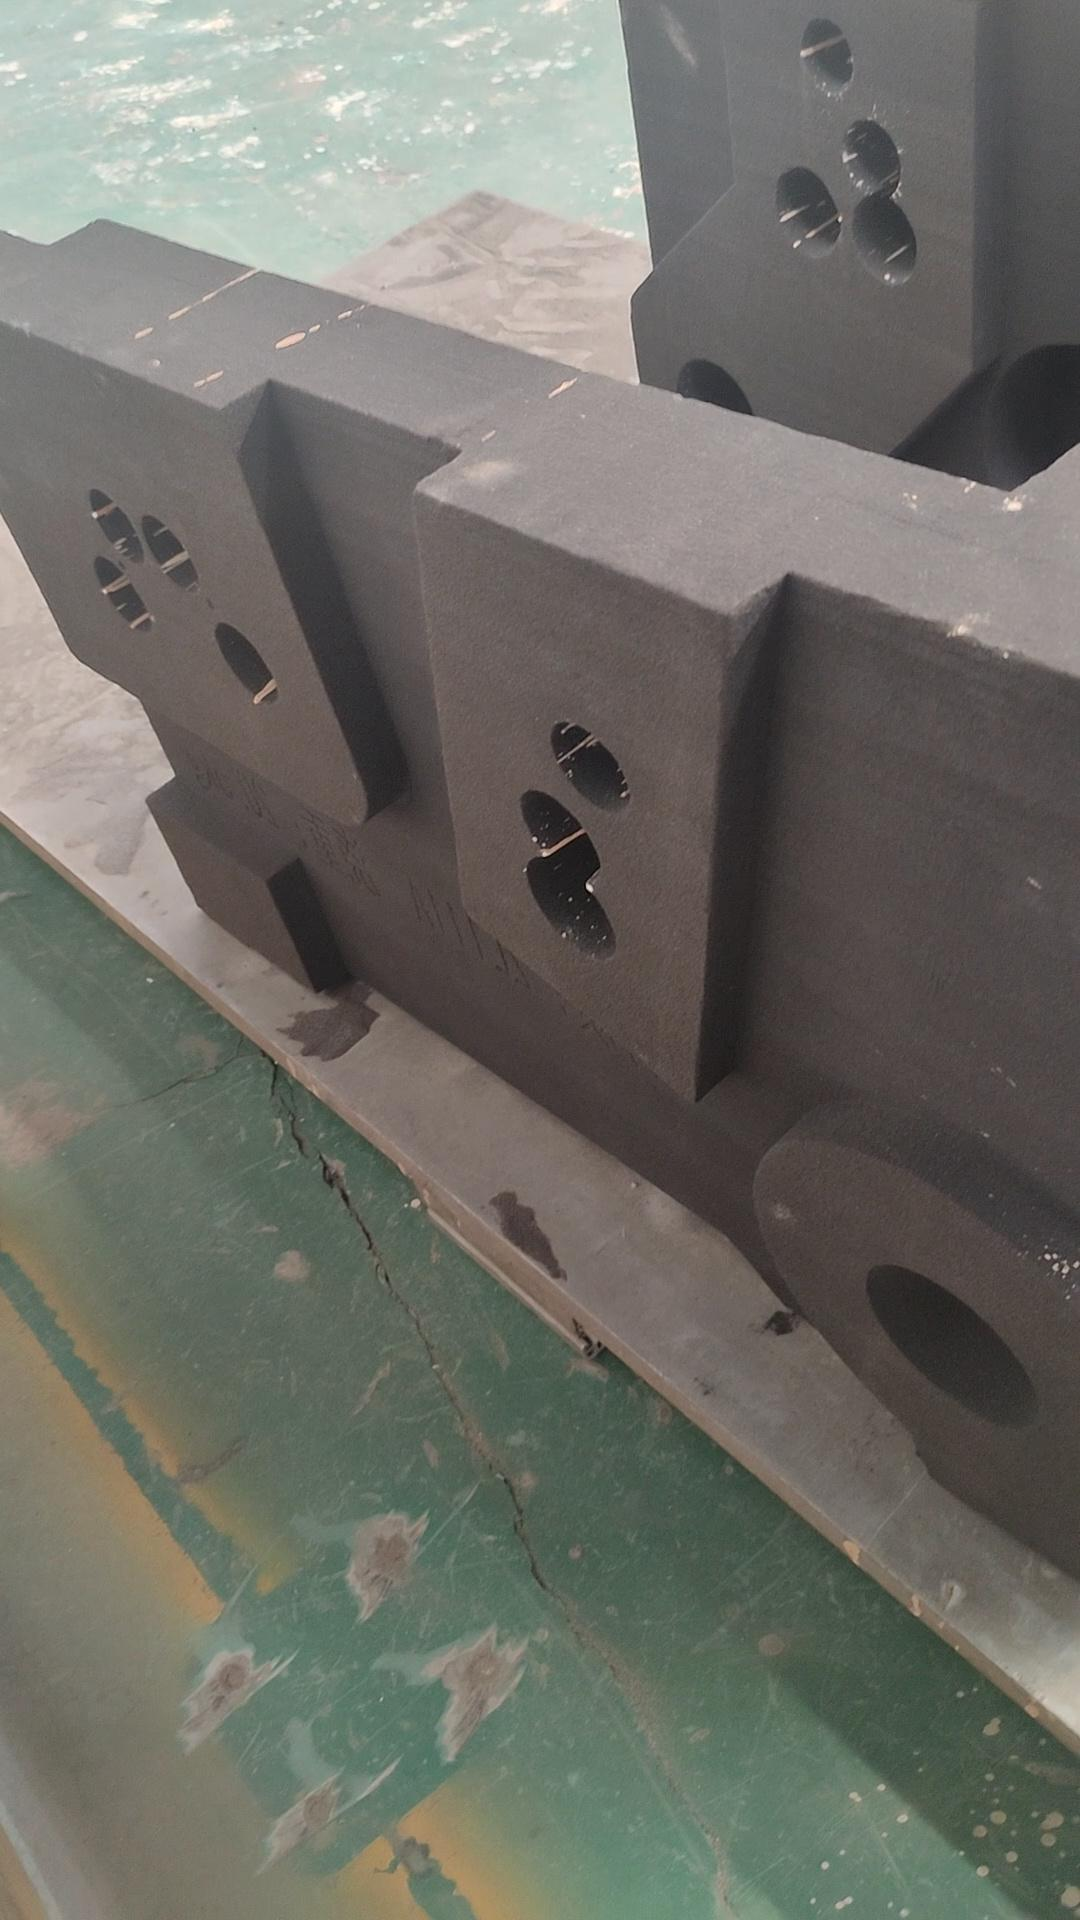pouring hole: (868, 1266, 1040, 1429), (671, 356, 758, 450)
